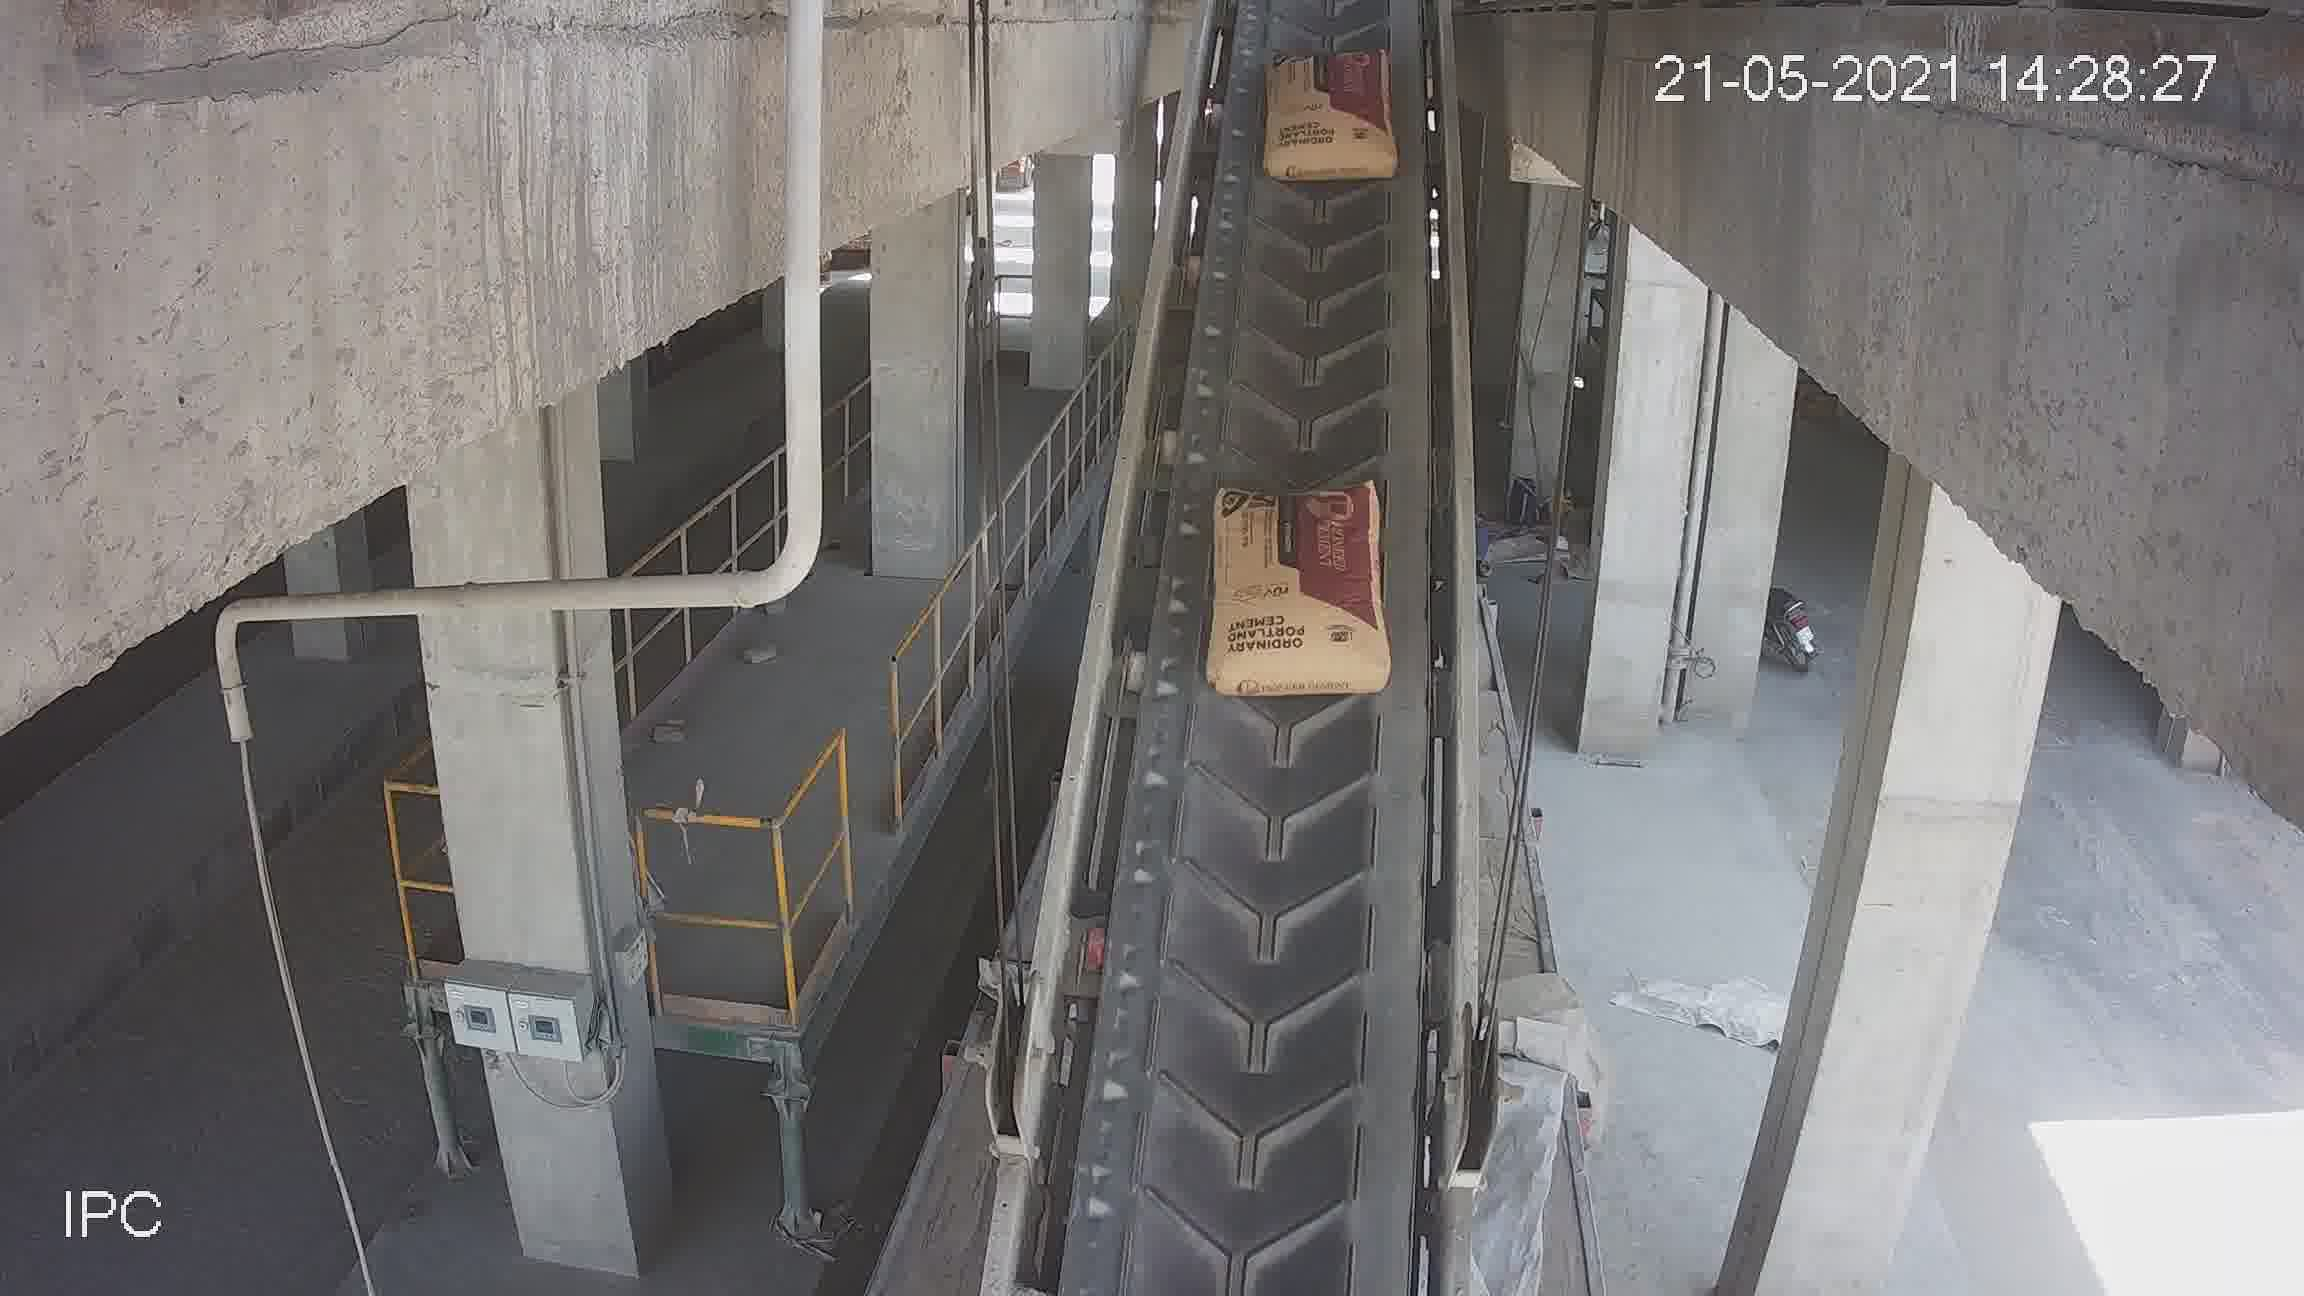bag: (1207, 481, 1396, 703), (1261, 54, 1389, 169)
belt: (1048, 17, 1502, 1206)
